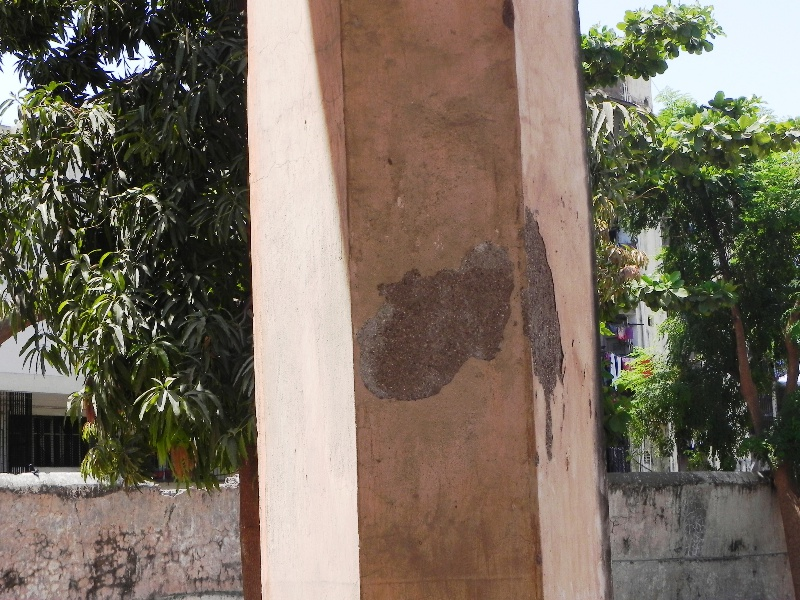Spalling: (352, 232, 516, 406), (520, 197, 570, 469)
